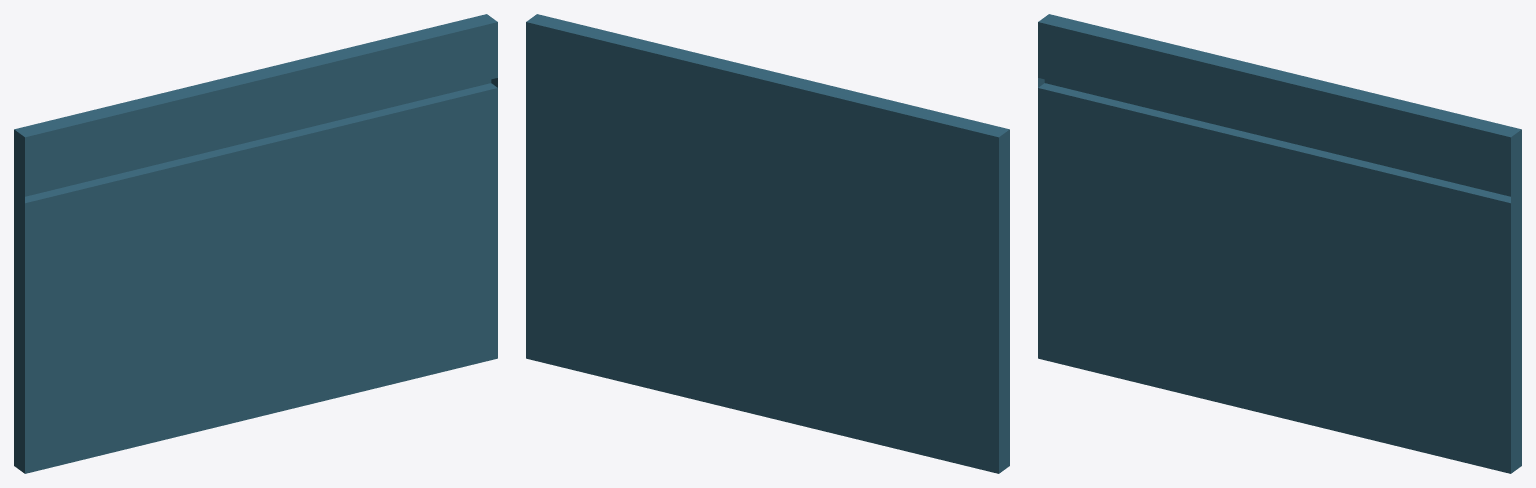
Rendered from hospital walls.fbx.
3 views of the same model, side by side, from view 1: azimuth 30°, elevation 25°; view 2: azimuth 150°, elevation 25°; view 3: azimuth 330°, elevation 25° (orthographic).
Parts seen in each view (by area): view 1: pCube1; view 2: pCube1; view 3: pCube1.
Boxes of the visible parts, x1,y1,x2,y2 form: pCube1: [14, 14, 497, 473]; pCube1: [526, 14, 1009, 473]; pCube1: [1038, 14, 1521, 473].
Size of the model in its own units: 1.8 by 1.23 by 0.0724.
